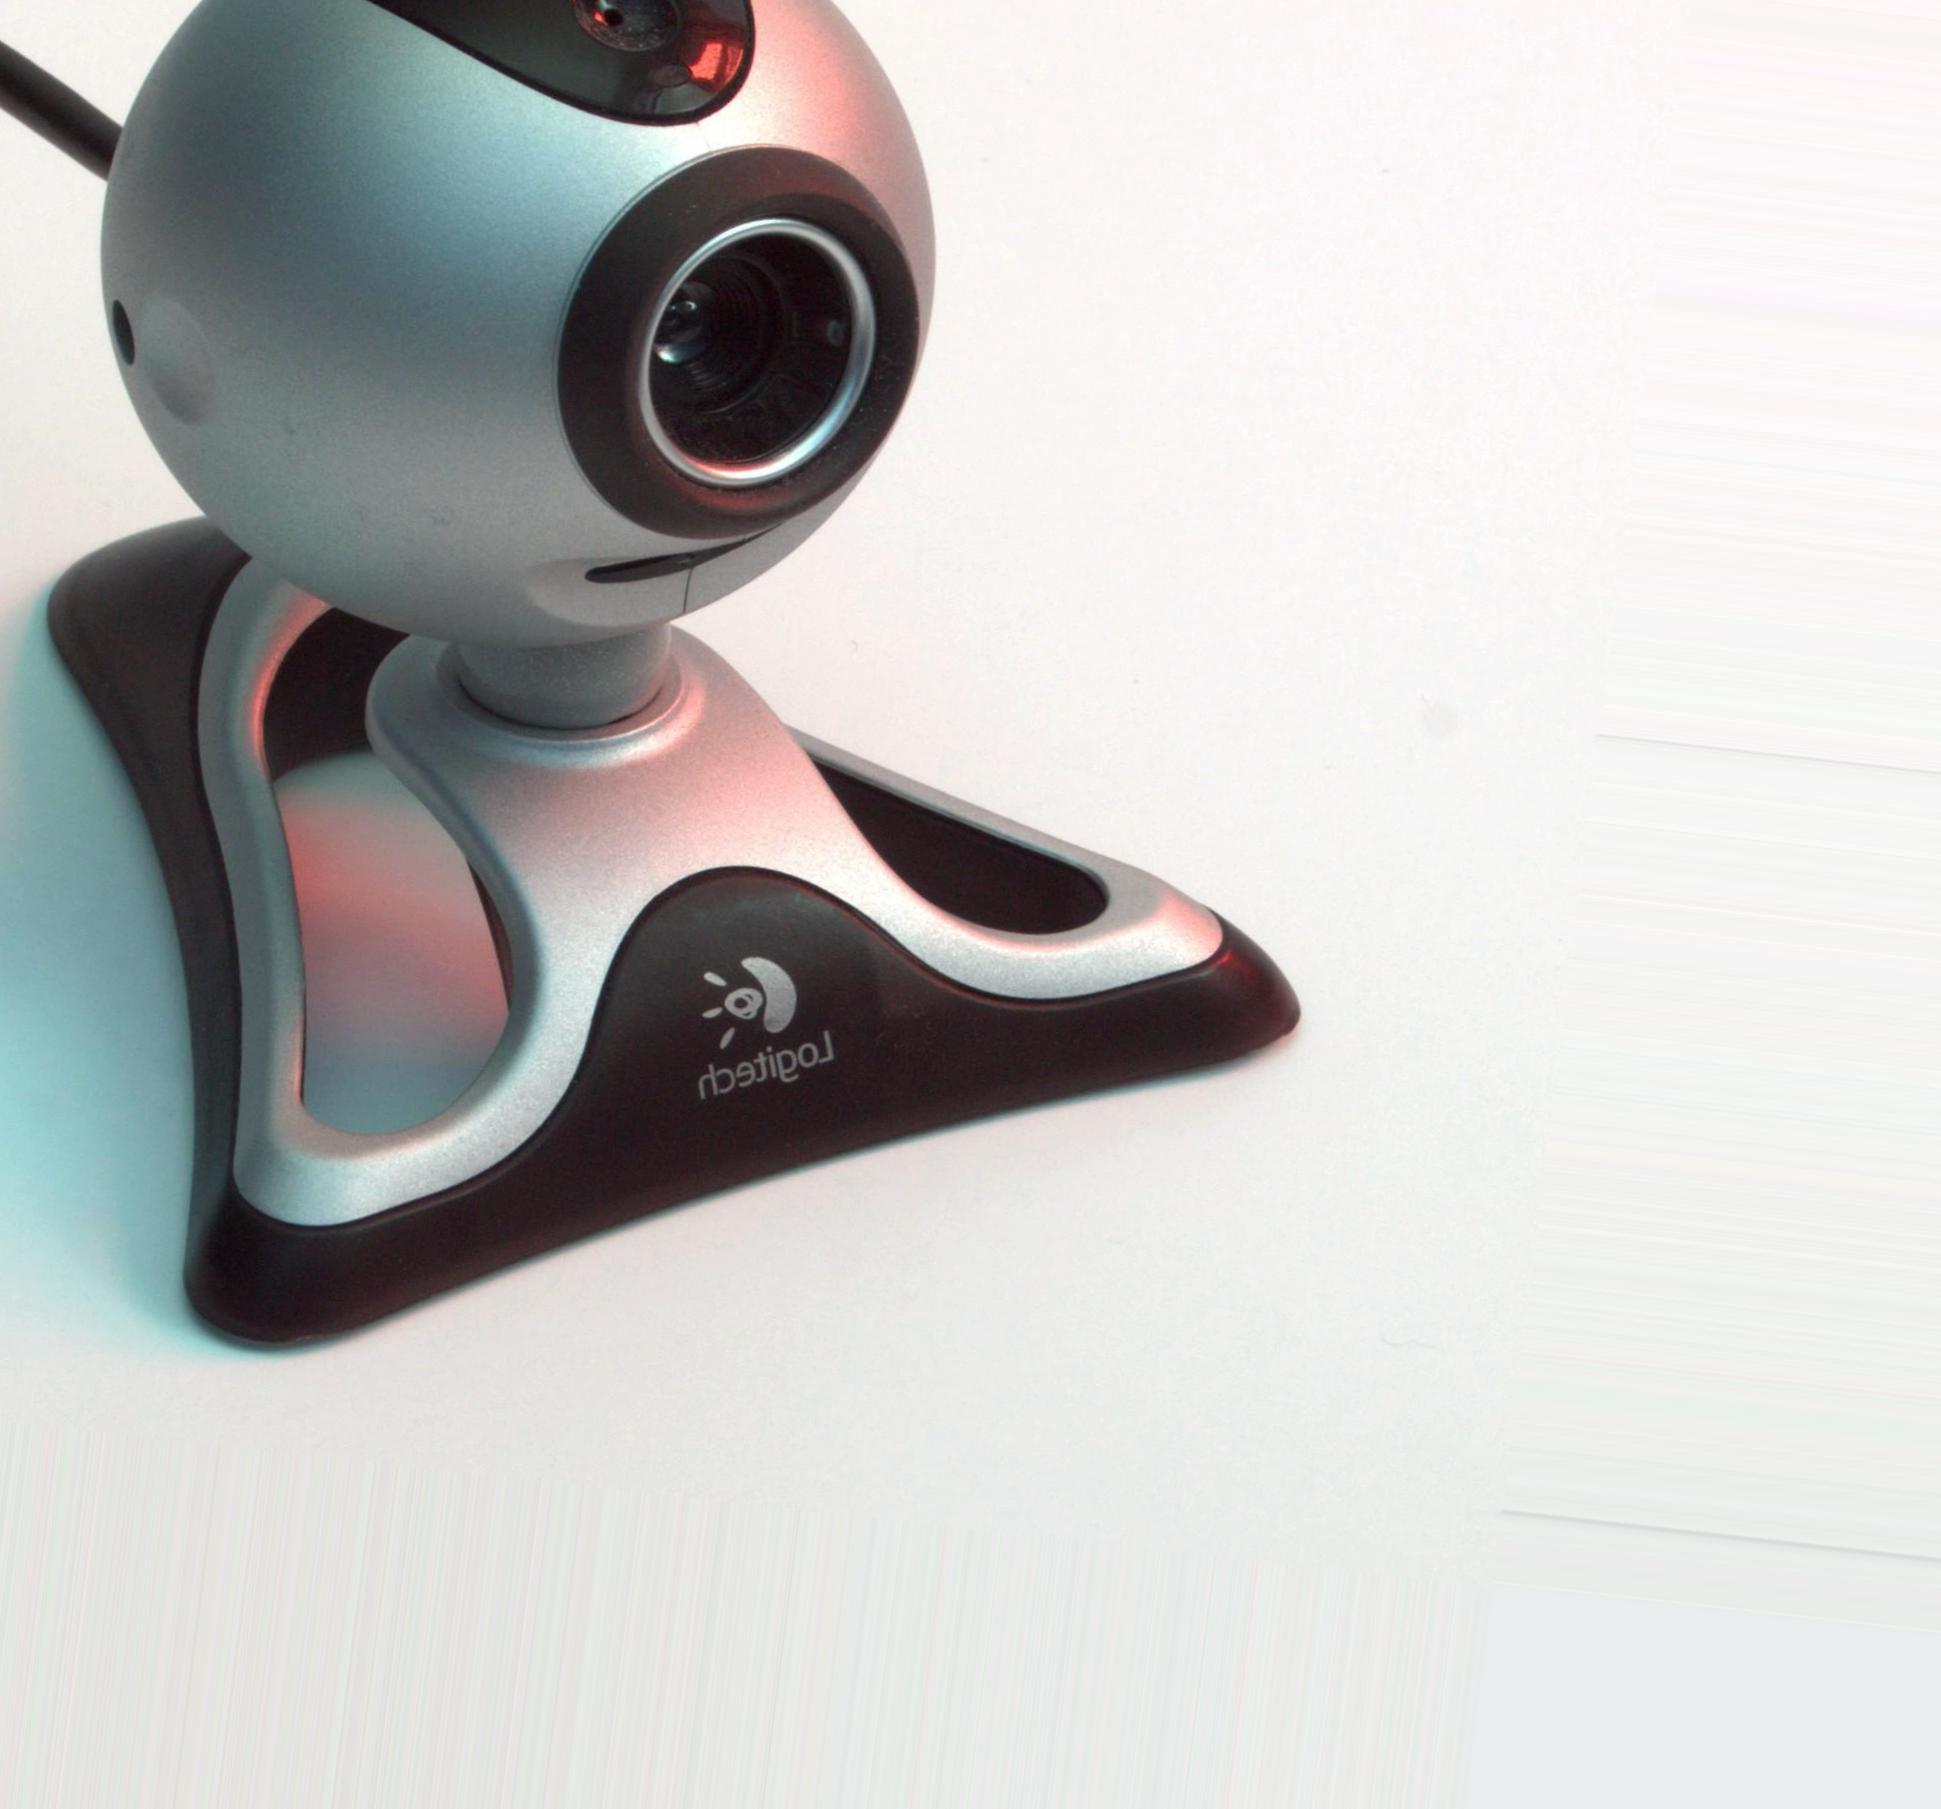webcam: (2, 2, 989, 723)
